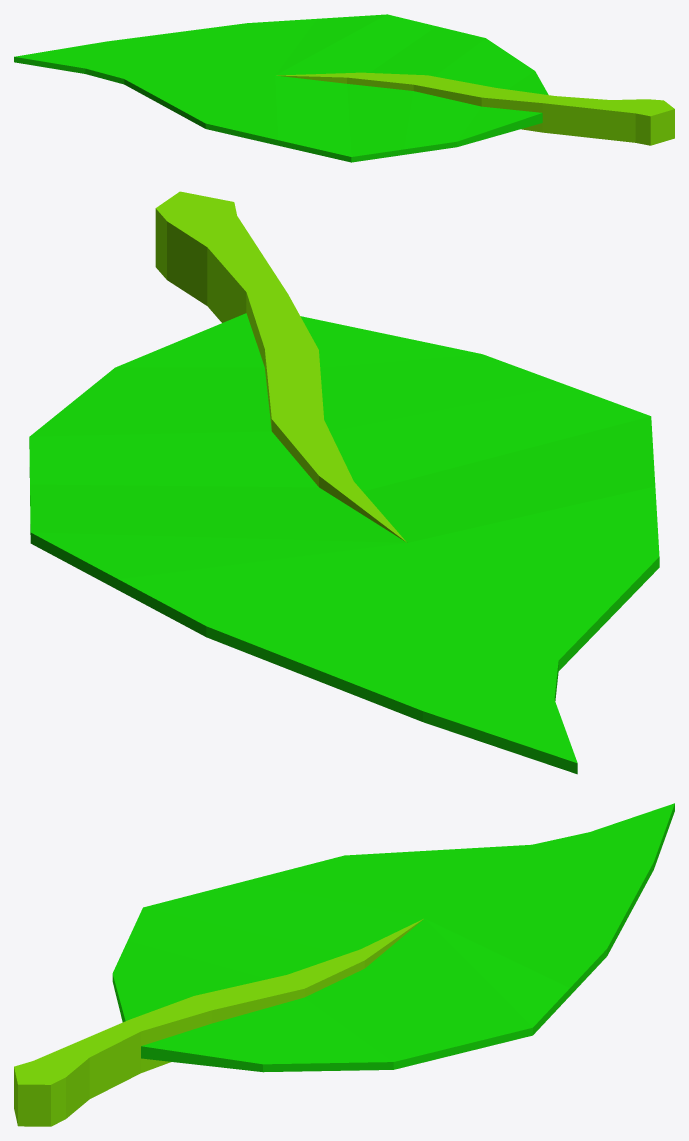
File: leaf.glb
3 renders of one model, top to bottom at view 1: azimuth 30°, elevation 25°; view 2: azimuth 150°, elevation 25°; view 3: azimuth 270°, elevation 25°, orthographic. The views are drawn at different scales.
Parts seen in each view (by area): view 1: Plane; view 2: Plane; view 3: Plane.
Boxes of the visible parts, x1=… form: Plane: x1=14, y1=14, x2=674, y2=162; Plane: x1=29, y1=191, x2=659, y2=774; Plane: x1=14, y1=803, x2=674, y2=1126.
Bounding box in the file's own units: 2.17 × 0.1422 × 2.03.
